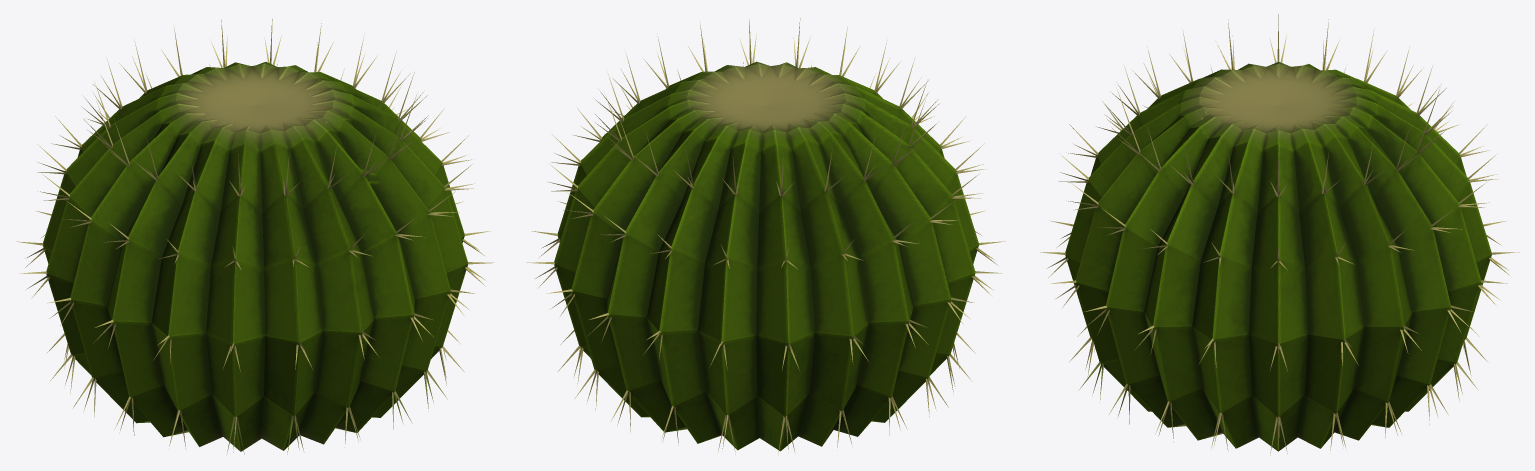
Rendered from west_cactus_barrel.glb.
3 renders of one model, left to right at view 1: azimuth 30°, elevation 25°; view 2: azimuth 150°, elevation 25°; view 3: azimuth 270°, elevation 25°, orthographic.
Visible parts, largest first — view 1: BarrelCactus_mesh; view 2: BarrelCactus_mesh; view 3: BarrelCactus_mesh.
Part boxes in pixels (bbox=[...]): BarrelCactus_mesh: bbox=[16, 19, 493, 454]; BarrelCactus_mesh: bbox=[526, 18, 1005, 453]; BarrelCactus_mesh: bbox=[1040, 14, 1519, 455].
Size of the model in its own units: 6.92 by 5.02 by 6.92.
Materials: 1 (1 with a texture image).
